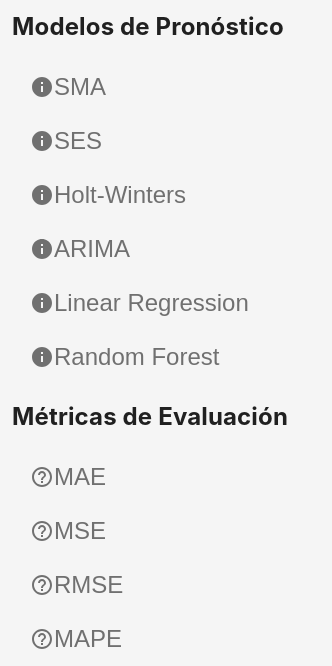
Tooltips and Informative Elements › Model Information Tooltips › displays tooltip for SMA model on hover
Hover over the button with aria-label "Información sobre SMA": {"x": 68, "y": 87} [22, 65, 114, 109]
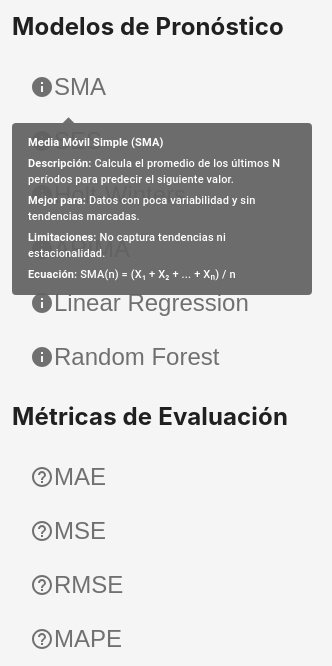
Expected: the text "Media Móvil Simple (SMA)" is shown, [28, 136, 164, 149]
Expected: the text "Calcula el promedio de los últimos N períodos" is shown, [28, 156, 280, 186]
Expected: the text "Datos con poca variabilidad" is shown, [28, 194, 255, 223]
